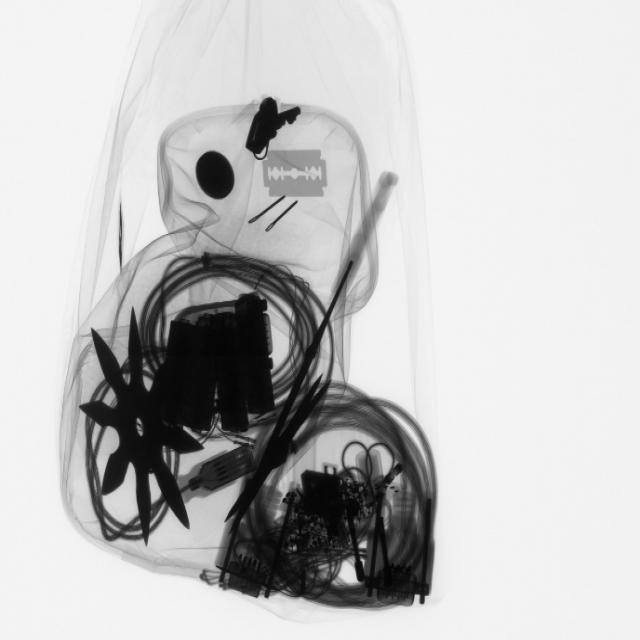BLADE: (257, 141, 336, 207)
SHURIKEN: (81, 314, 200, 535)
